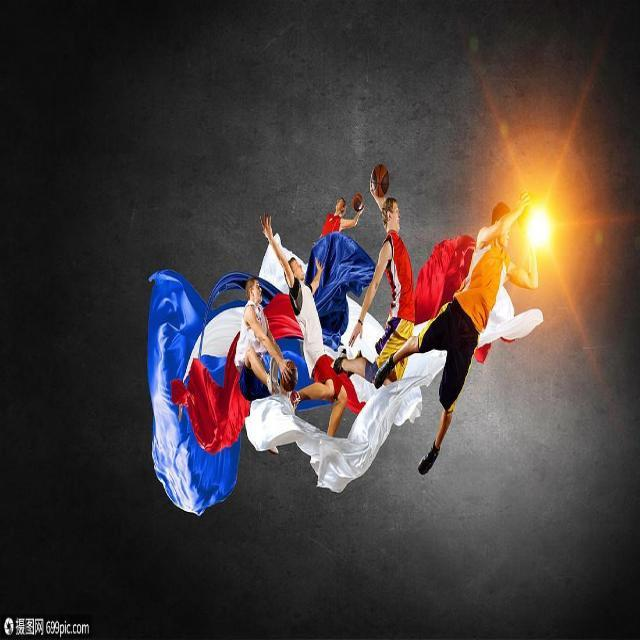rim: (370, 164, 389, 194), (282, 358, 298, 390), (353, 192, 363, 211)
